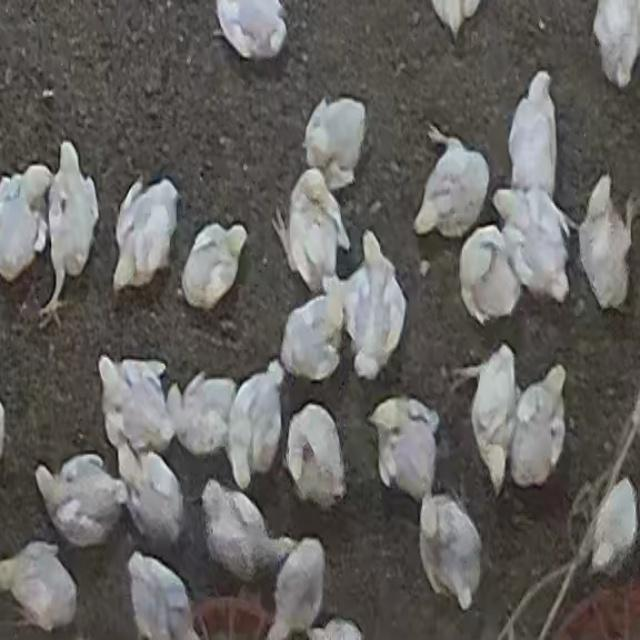chicken: (42, 141, 102, 322), (341, 229, 407, 382), (198, 480, 291, 587), (456, 344, 520, 494), (495, 186, 573, 306), (36, 452, 126, 552), (111, 171, 181, 297), (281, 168, 351, 294), (413, 128, 490, 239), (117, 444, 191, 557), (575, 174, 636, 311), (99, 354, 174, 463), (507, 362, 569, 490), (418, 490, 483, 612), (225, 366, 287, 492), (369, 397, 440, 505), (279, 274, 347, 384), (0, 540, 79, 634), (126, 550, 203, 639), (284, 400, 346, 509), (0, 164, 53, 286), (458, 223, 520, 327), (507, 70, 558, 194), (265, 536, 327, 638), (169, 372, 239, 459), (299, 96, 362, 188), (182, 223, 247, 310), (584, 478, 638, 582)
